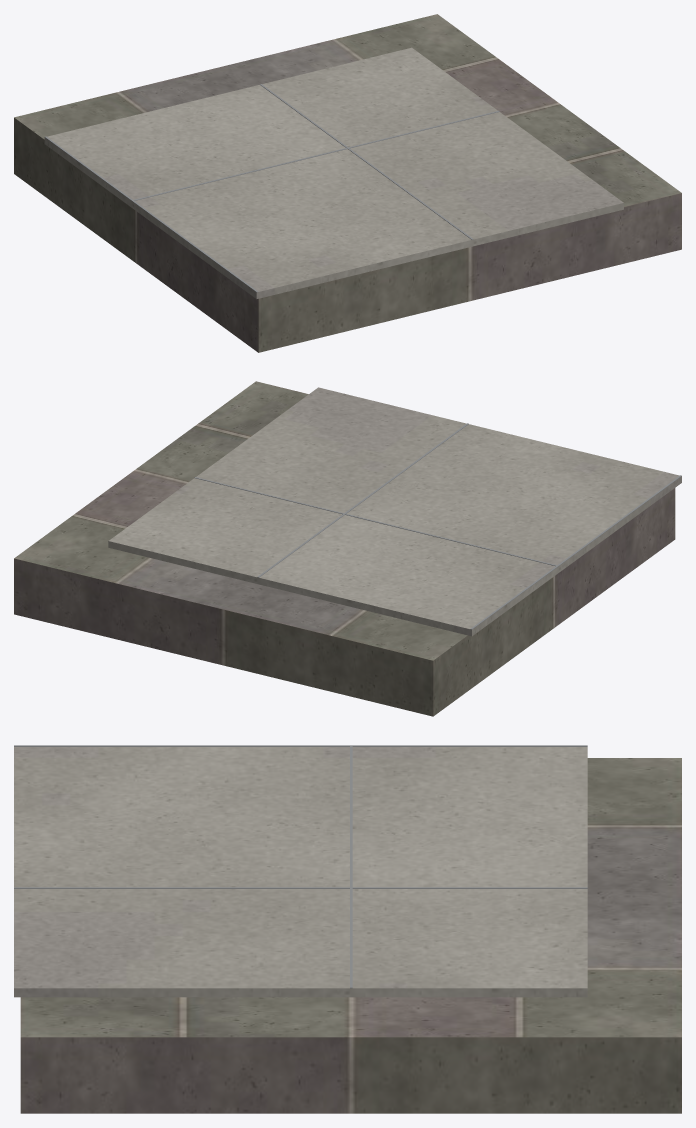
Rendered from floor_hall_g_e0110.glb.
3 renders of one model, top to bottom at view 1: azimuth 30°, elevation 25°; view 2: azimuth 150°, elevation 25°; view 3: azimuth 270°, elevation 25°, orthographic. The views are drawn at different scales.
Visible parts, largest first — view 1: floor_hall_g_e0110_concrete, floor_hall_g_e0110_plinth, floor_hall_g_e0110_seam; view 2: floor_hall_g_e0110_concrete, floor_hall_g_e0110_plinth, floor_hall_g_e0110_seam; view 3: floor_hall_g_e0110_concrete, floor_hall_g_e0110_plinth, floor_hall_g_e0110_seam.
Part boxes in pixels (bbox=[...]): floor_hall_g_e0110_concrete: bbox=[44, 47, 623, 298]; floor_hall_g_e0110_plinth: bbox=[14, 14, 681, 352]; floor_hall_g_e0110_seam: bbox=[45, 84, 499, 292]; floor_hall_g_e0110_concrete: bbox=[108, 387, 681, 636]; floor_hall_g_e0110_plinth: bbox=[14, 381, 675, 716]; floor_hall_g_e0110_seam: bbox=[194, 423, 681, 629]; floor_hall_g_e0110_concrete: bbox=[14, 747, 587, 997]; floor_hall_g_e0110_plinth: bbox=[20, 758, 681, 1113]; floor_hall_g_e0110_seam: bbox=[14, 745, 587, 988].
Size of the model in its own units: 1.98 by 0.282 by 1.98.
3 materials, 2 textured.
